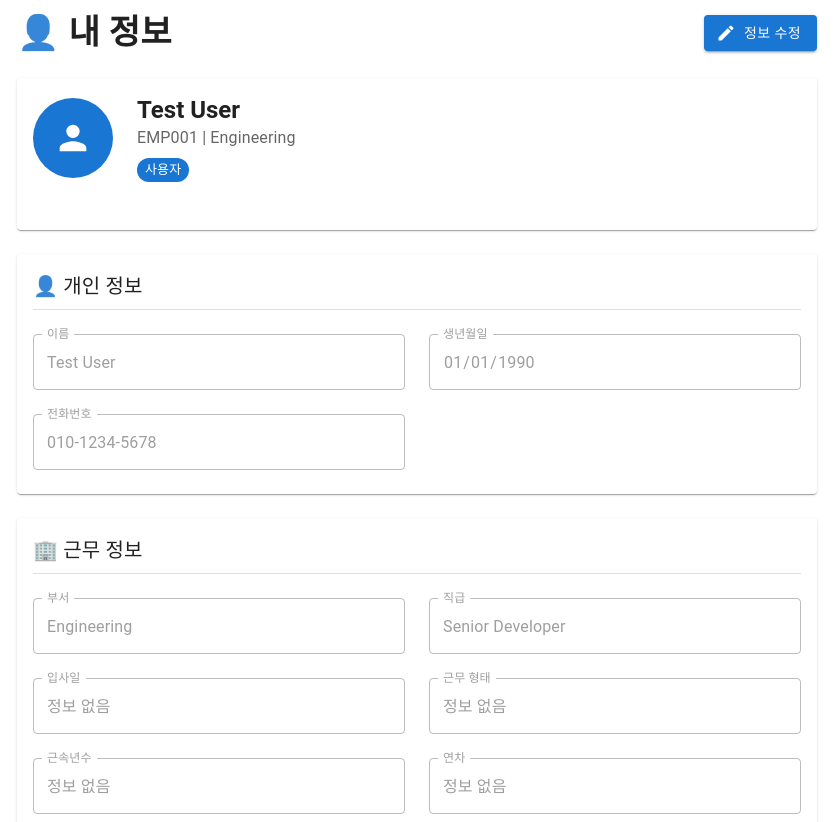
Test: UserProfile Component Tests › enables edit mode when edit button is clicked
The image size is (835, 822).
// Click edit button
Click the button "정보 수정". click: coordinates (760, 33)
box: 704,15 -> 817,51
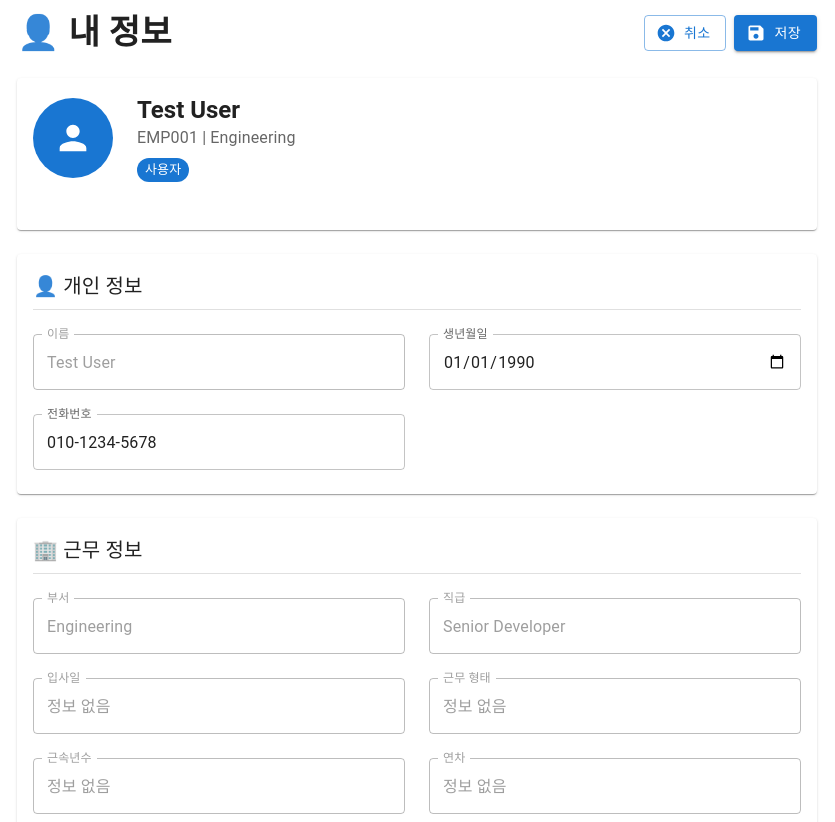
Expected: the button "저장" is shown, 734,15 -> 817,51
Expected: the button "취소" is shown, 644,15 -> 726,51
